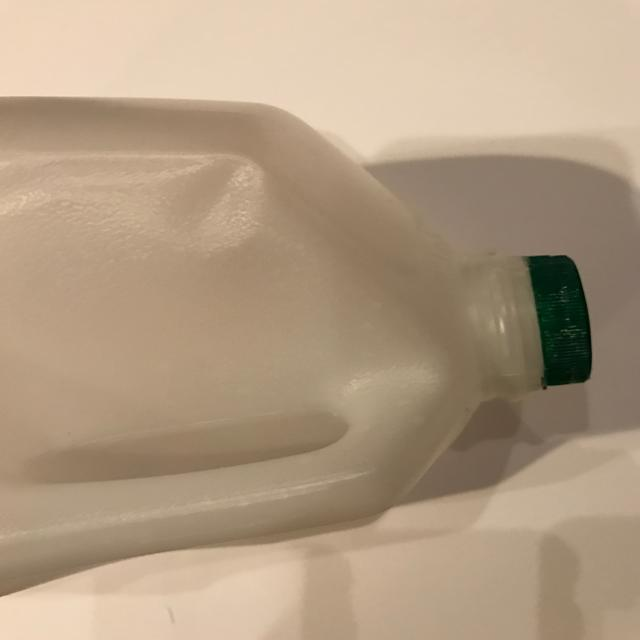plastic: (0, 95, 594, 597)
